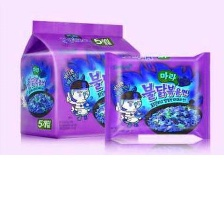snack: (14, 14, 144, 145), (95, 46, 216, 146)
